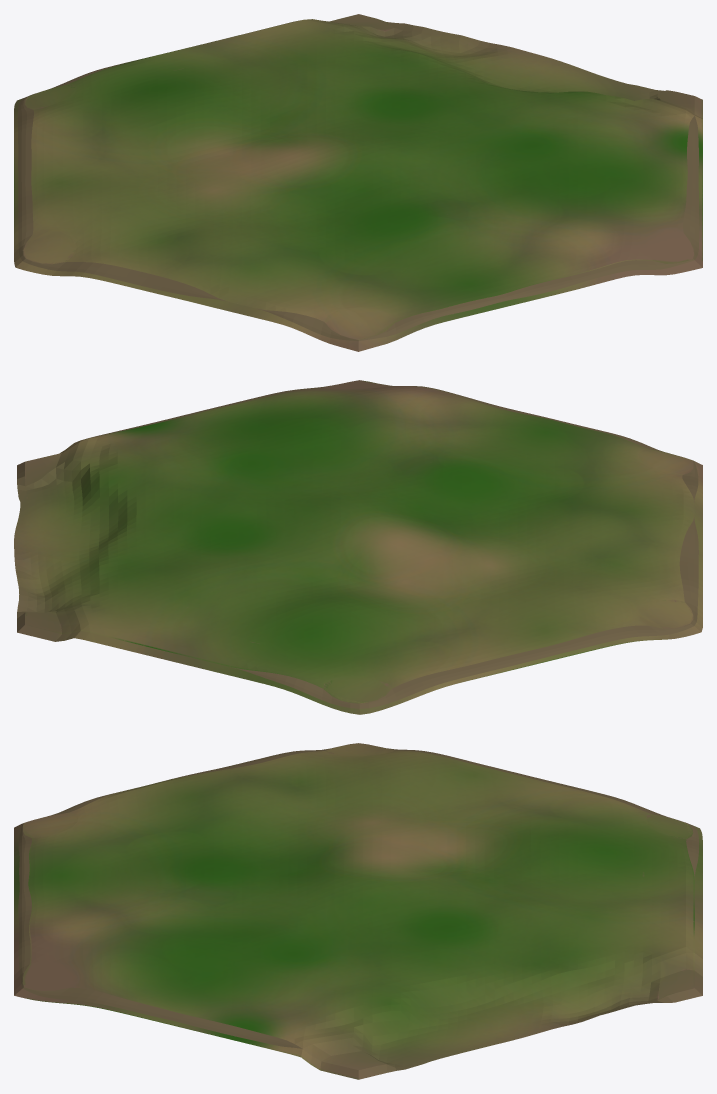
Rendered from River1A.glb.
3 views of the same model, one above another, from view 1: azimuth 30°, elevation 25°; view 2: azimuth 150°, elevation 25°; view 3: azimuth 270°, elevation 25° (orthographic).
Visible parts, largest first — view 1: Circle; view 2: Circle; view 3: Circle.
Part boxes in pixels (x1=…): Circle: x1=14, y1=14, x2=702, y2=351; Circle: x1=14, y1=380, x2=702, y2=714; Circle: x1=14, y1=743, x2=702, y2=1079.
Bounding box in the file's own units: 409 × 20.92 × 355.
Materials: 1 (1 with a texture image).
